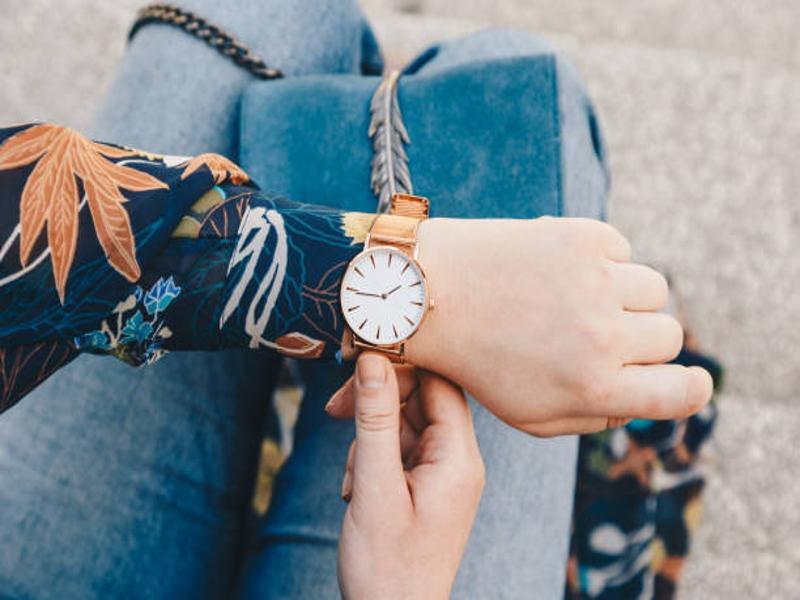watch: (340, 192, 435, 365)
